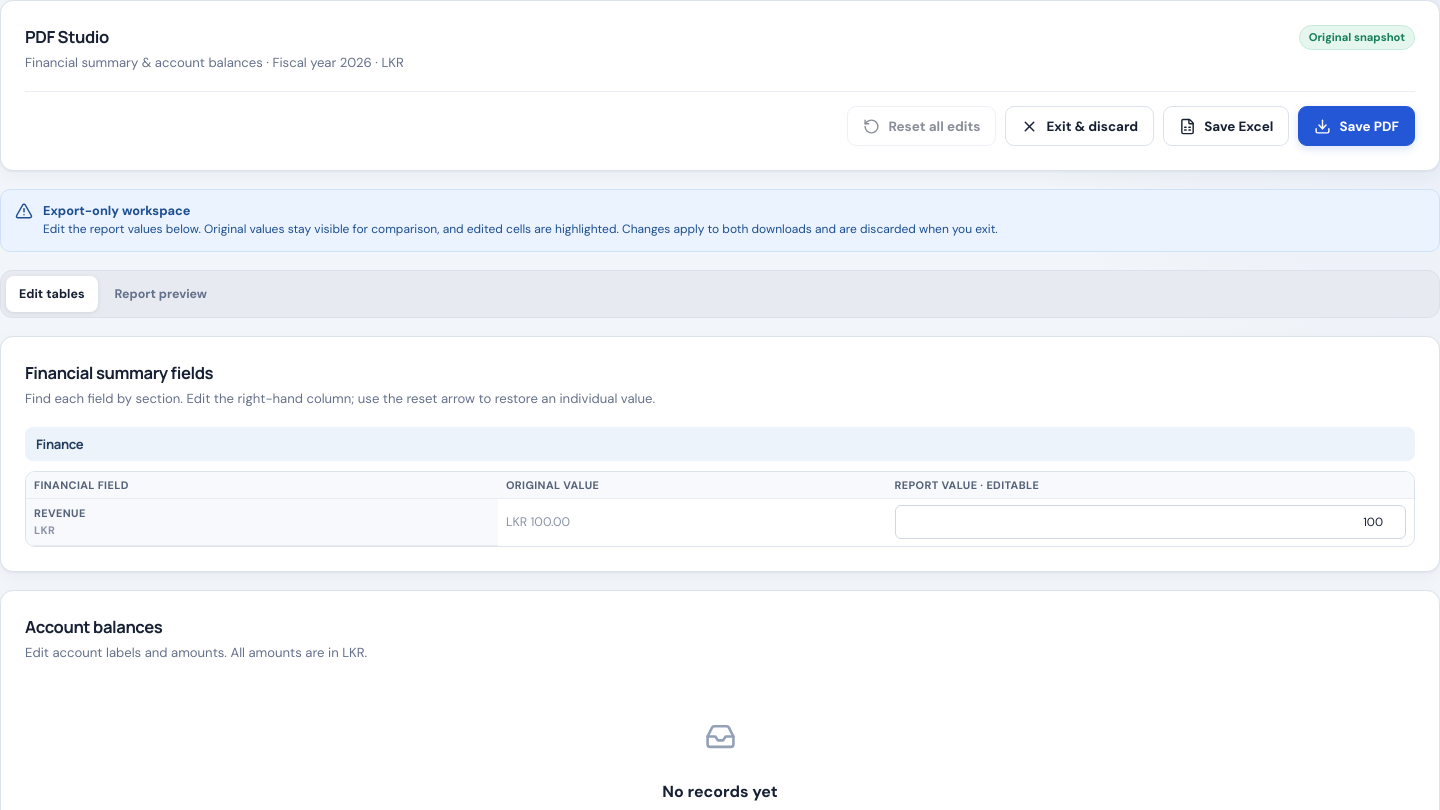
Test: PDF Studio › keeps edits available after an export failure
This screenshot has width=1440, height=810.
Click the button "Save PDF": point(1357, 126) [1298, 106, 1415, 146]
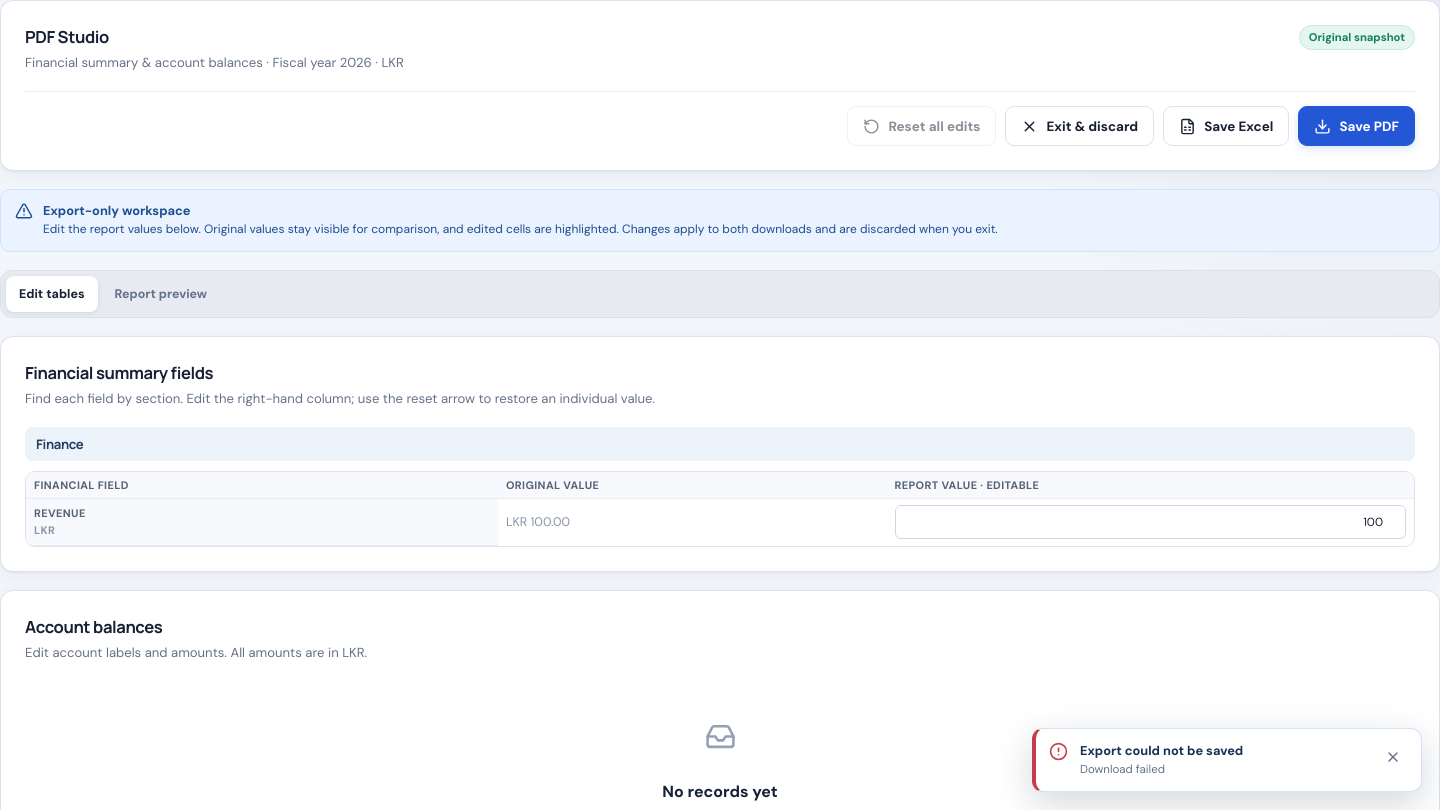
Expected: the number field named "Finance: Revenue" holds "100", [894, 505, 1406, 539]
Expected: the text "Download failed" is shown, [1080, 762, 1165, 777]
